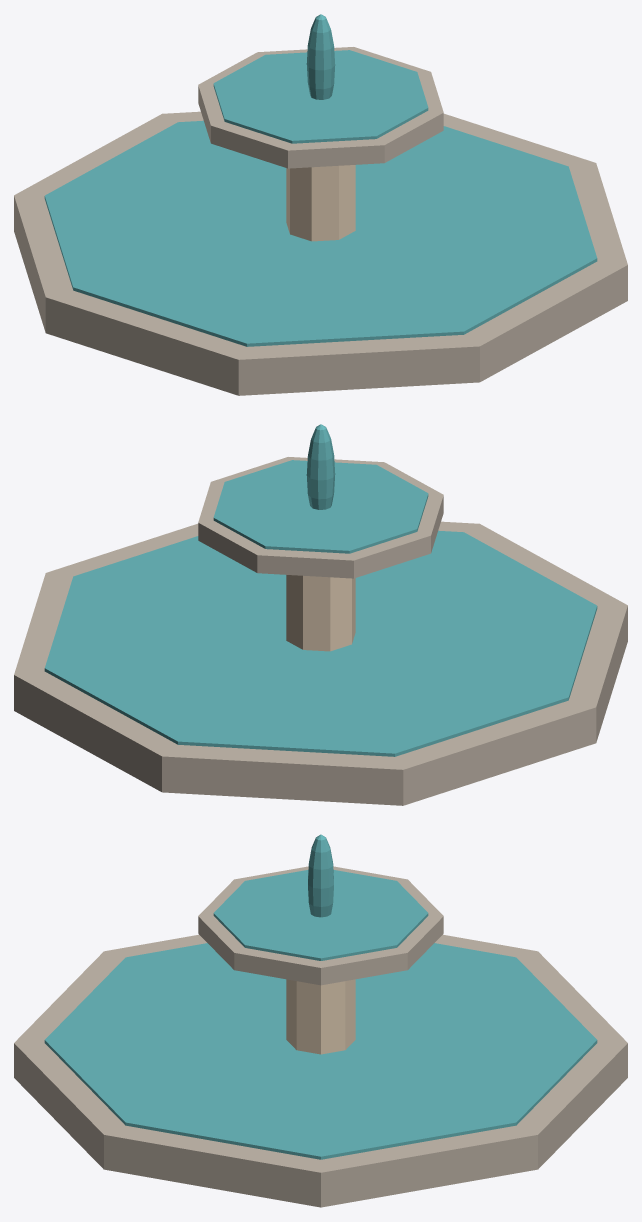
The model's file is fountain.obj.
The picture shows the model from 3 angles, top to bottom: view 1: azimuth 30°, elevation 25°; view 2: azimuth 150°, elevation 25°; view 3: azimuth 270°, elevation 25°; orthographic projection. The views are drawn at different scales.
Parts seen in each view (by area): view 1: fountain; view 2: fountain; view 3: fountain.
Part boxes in pixels (left/top/right/bottom): fountain: left=14, top=14, right=627, bottom=395; fountain: left=14, top=424, right=627, bottom=805; fountain: left=14, top=834, right=627, bottom=1207.
Size of the model in its own units: 8 by 3.5 by 8.
